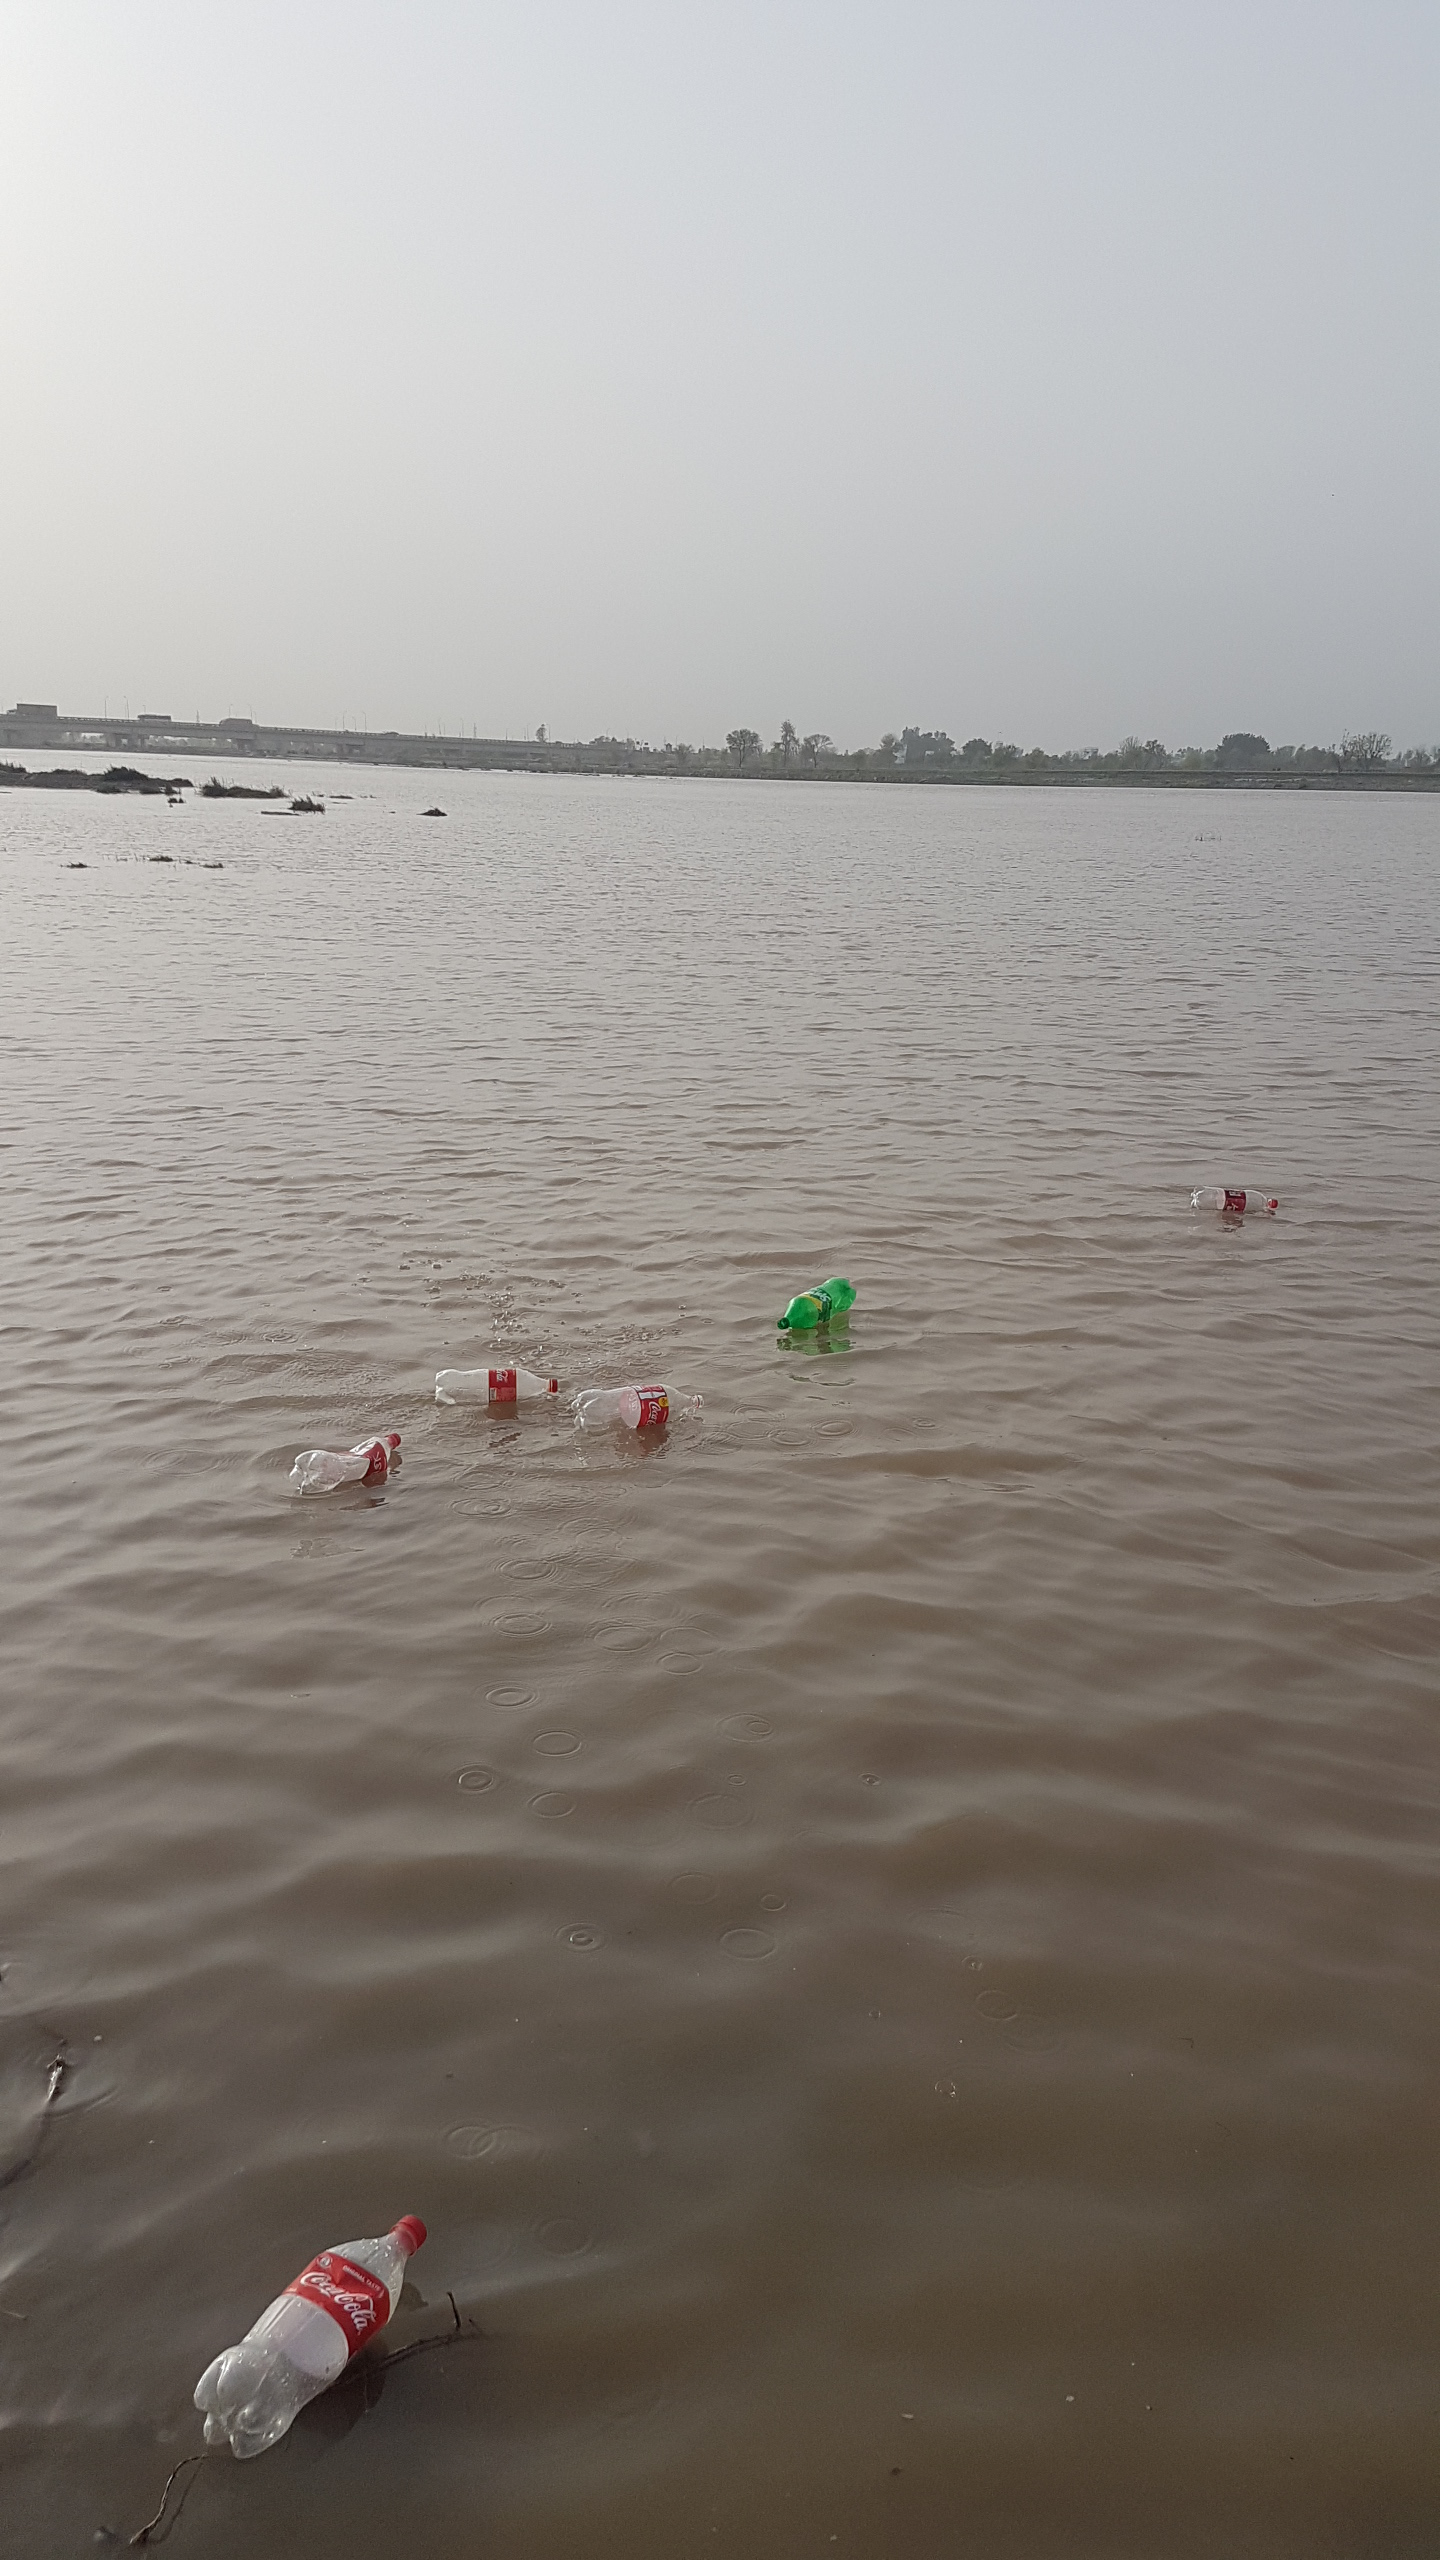Plastic Bottle: (193, 2215, 429, 2460), (290, 1431, 403, 1495), (571, 1384, 703, 1433), (434, 1366, 559, 1403), (777, 1276, 858, 1329), (1190, 1185, 1280, 1215)
